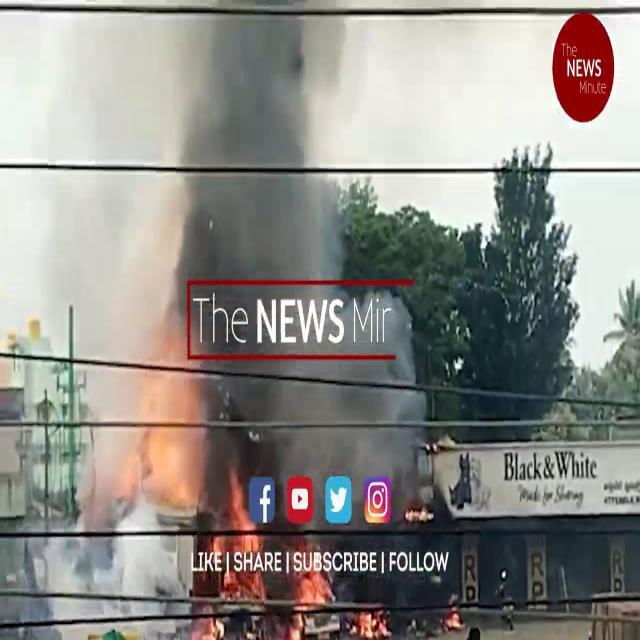Fire: (120, 350, 258, 554)
Smoke: (87, 8, 428, 529)
